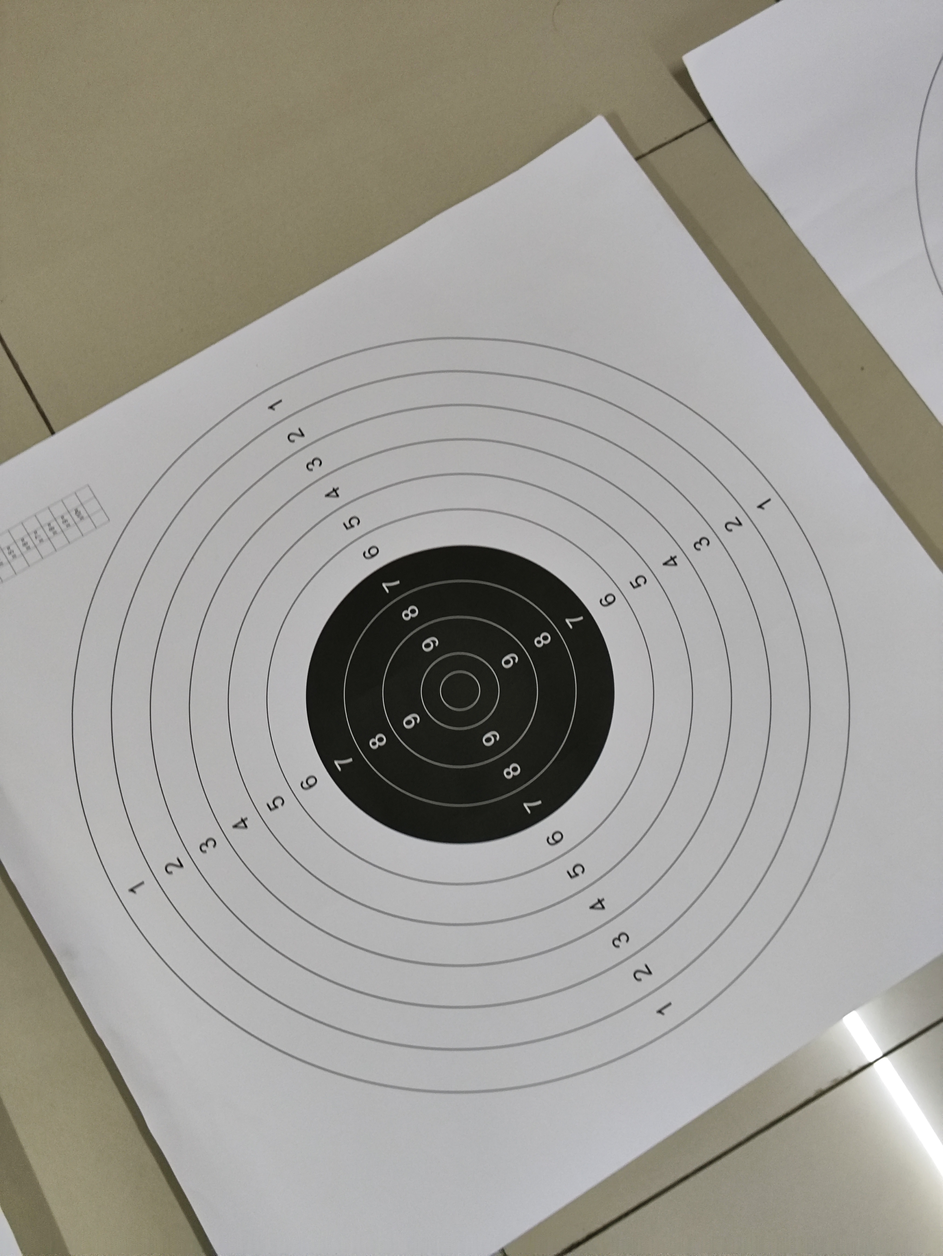target: (65, 315, 858, 1081)
